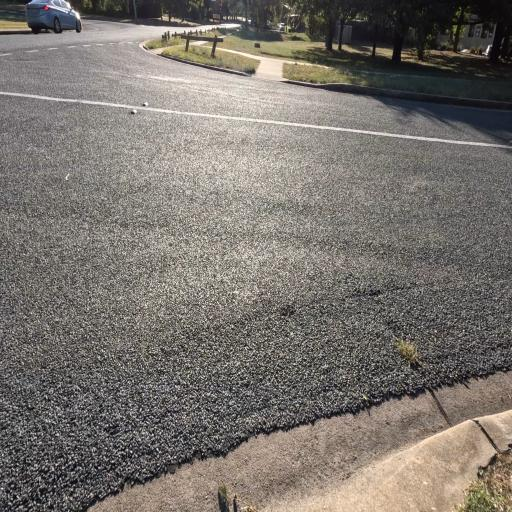kerb_cut: (251, 68, 280, 82), (149, 48, 160, 58)
